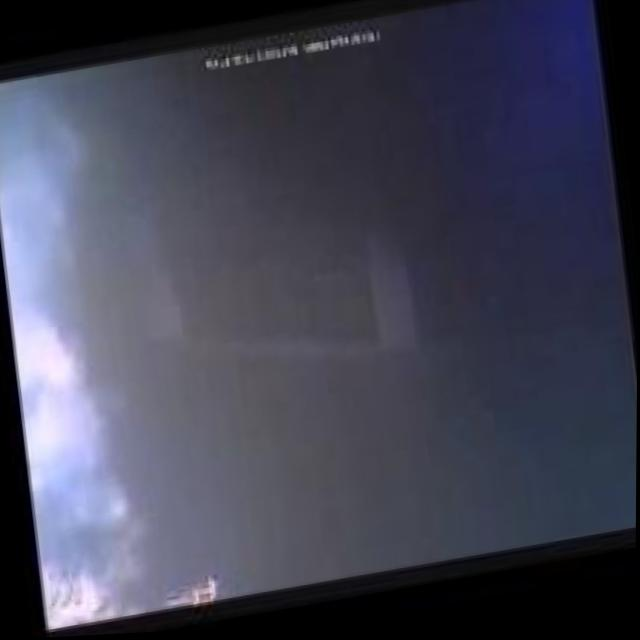fire: (41, 538, 229, 633)
